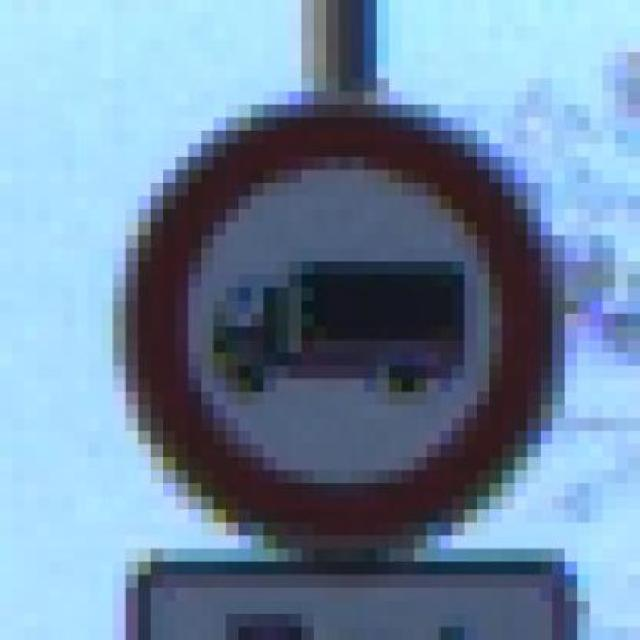Truck traffic is prohibited: (100, 66, 577, 548)
